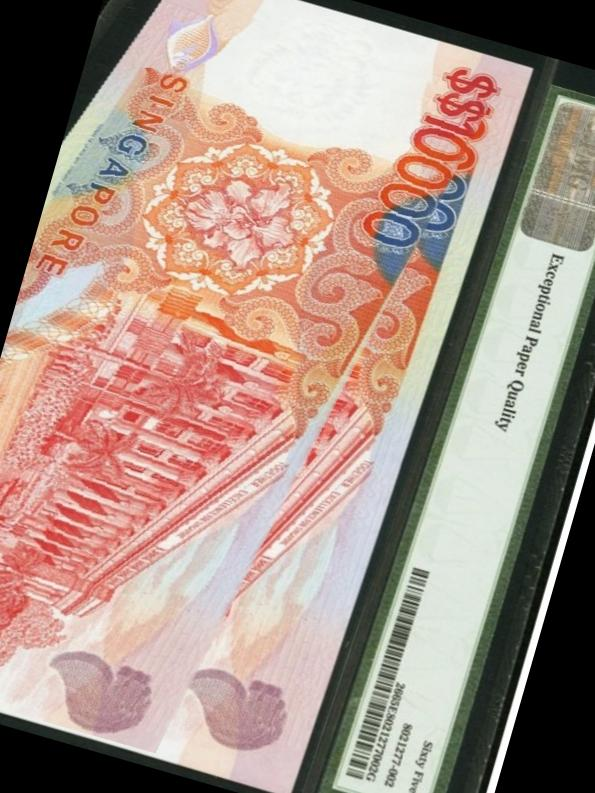10000SingaporeDollar: (0, 0, 496, 791)
